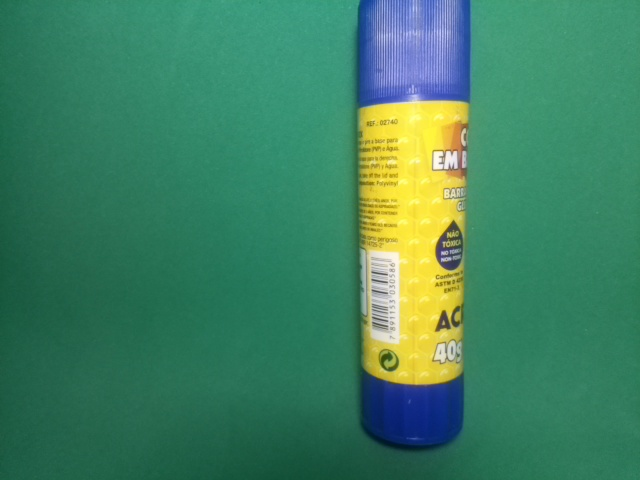Cola: (351, 1, 468, 452)
